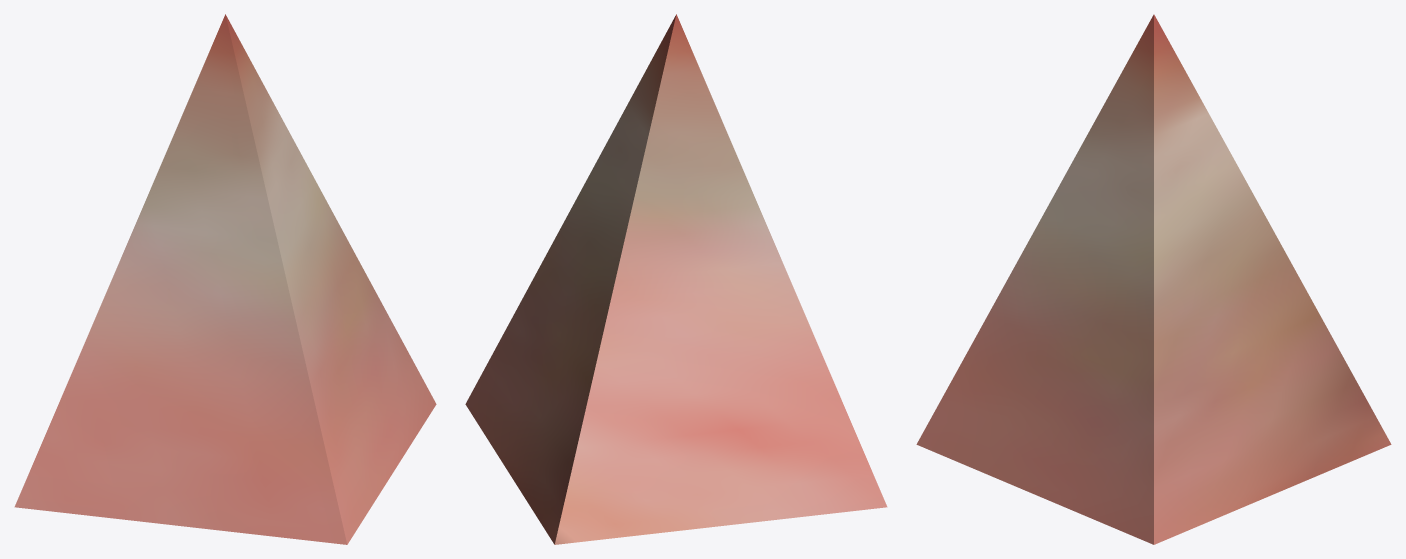
The model's file is pic.fbx.
3 views of the same model, side by side, from view 1: azimuth 30°, elevation 25°; view 2: azimuth 150°, elevation 25°; view 3: azimuth 270°, elevation 25° (orthographic). The views are drawn at different scales.
Visible parts, largest first — view 1: pPyramid1; view 2: pPyramid1; view 3: pPyramid1.
Boxes of the visible parts, x1,y1,x2,y2 form: pPyramid1: (14,14,436,544); pPyramid1: (465,14,887,544); pPyramid1: (916,14,1391,544).
Bounding box in the file's own units: 0.7071 × 0.7071 × 0.7071.
